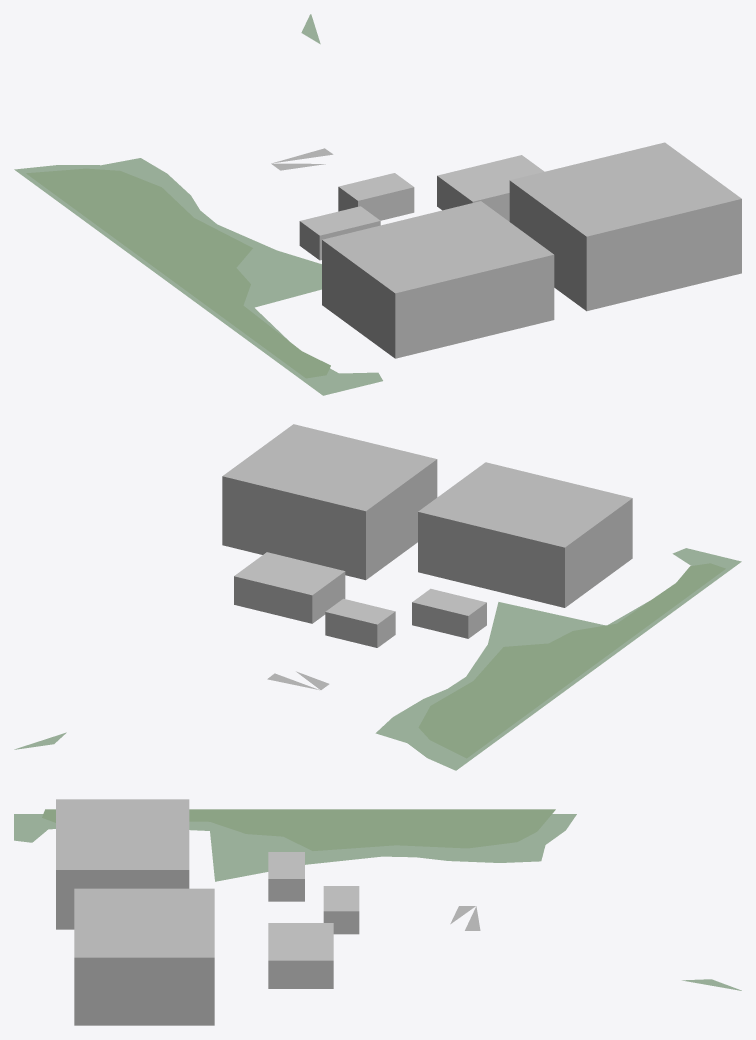
Rendered from 133_124_mid.glb.
3 renders of one model, top to bottom at view 1: azimuth 30°, elevation 25°; view 2: azimuth 150°, elevation 25°; view 3: azimuth 270°, elevation 25°, orthographic. The views are drawn at different scales.
Bounding box in the file's own units: 297 × 46.9 × 455.
